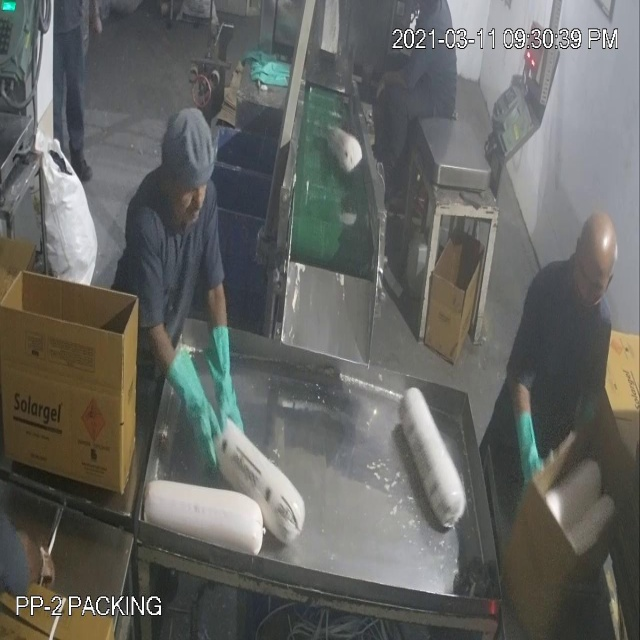Guantes: (158, 346, 226, 470), (200, 311, 249, 433)
